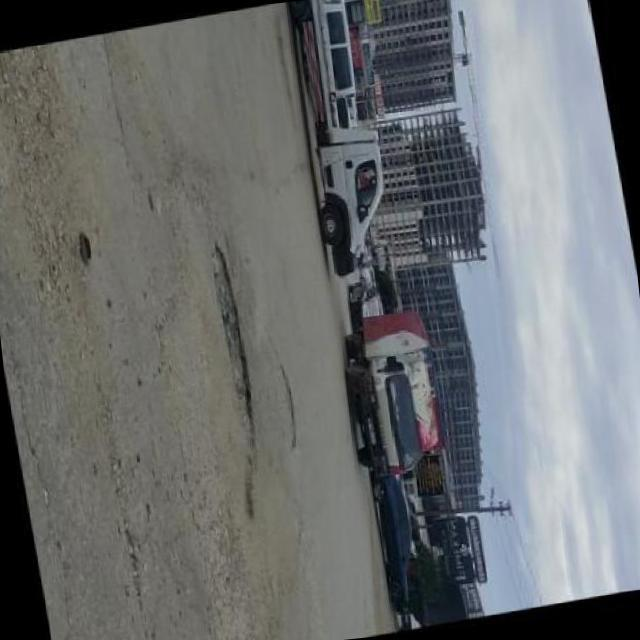Pothole: (213, 243, 254, 429)
